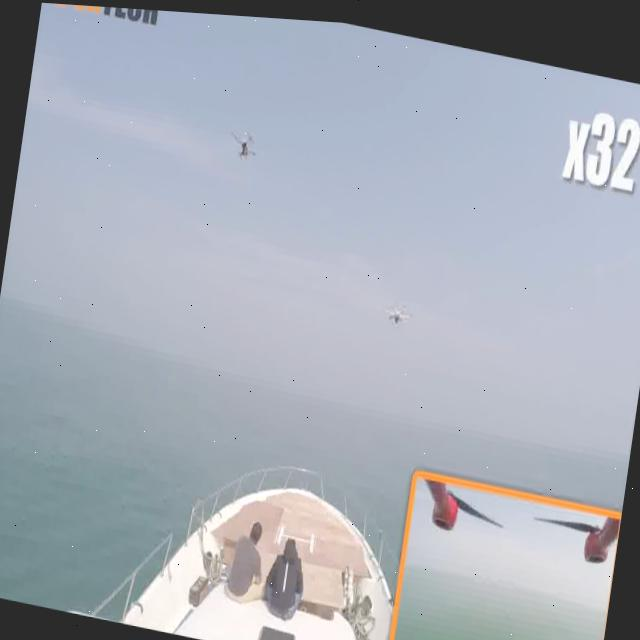drone: (227, 113, 266, 175), (380, 287, 417, 333)
